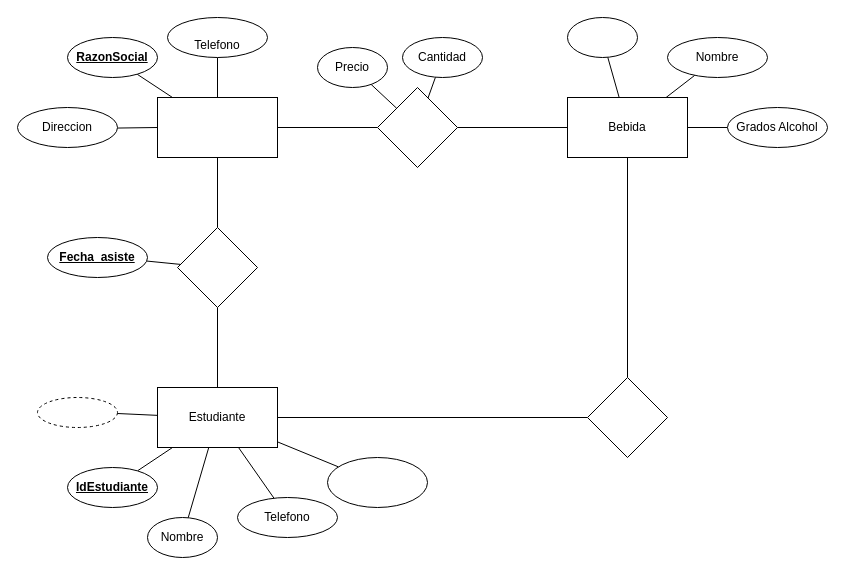
This 845x575 diagram has some shape labels left out. Here are the shapes that lost their labels. From the top down, the box of each, then its label:
(566, 16, 638, 58): IdBebida
(156, 96, 278, 158): Bar
(376, 86, 458, 168): Vende
(176, 226, 258, 308): Asiste
(36, 396, 118, 428): Edad
(586, 376, 668, 458): Prefiere
(326, 456, 428, 508): FechaNacimiento
